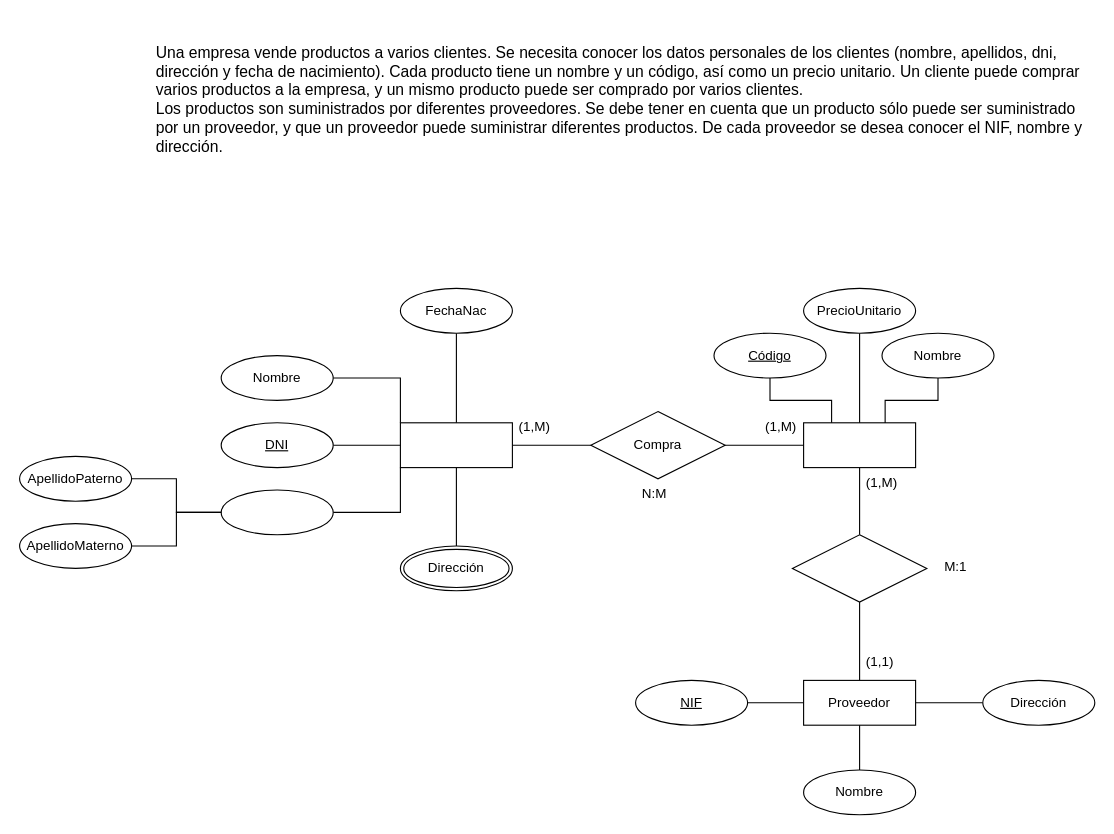
This 1114x834 diagram has some shape labels left out. The box of each missing label's shape, as (x1, y1, x2, y2) in pixels:
Apellidos: (220, 489, 333, 535)
Cliente: (399, 422, 512, 468)
Producto: (802, 422, 916, 468)
Suministra: (791, 534, 927, 602)
